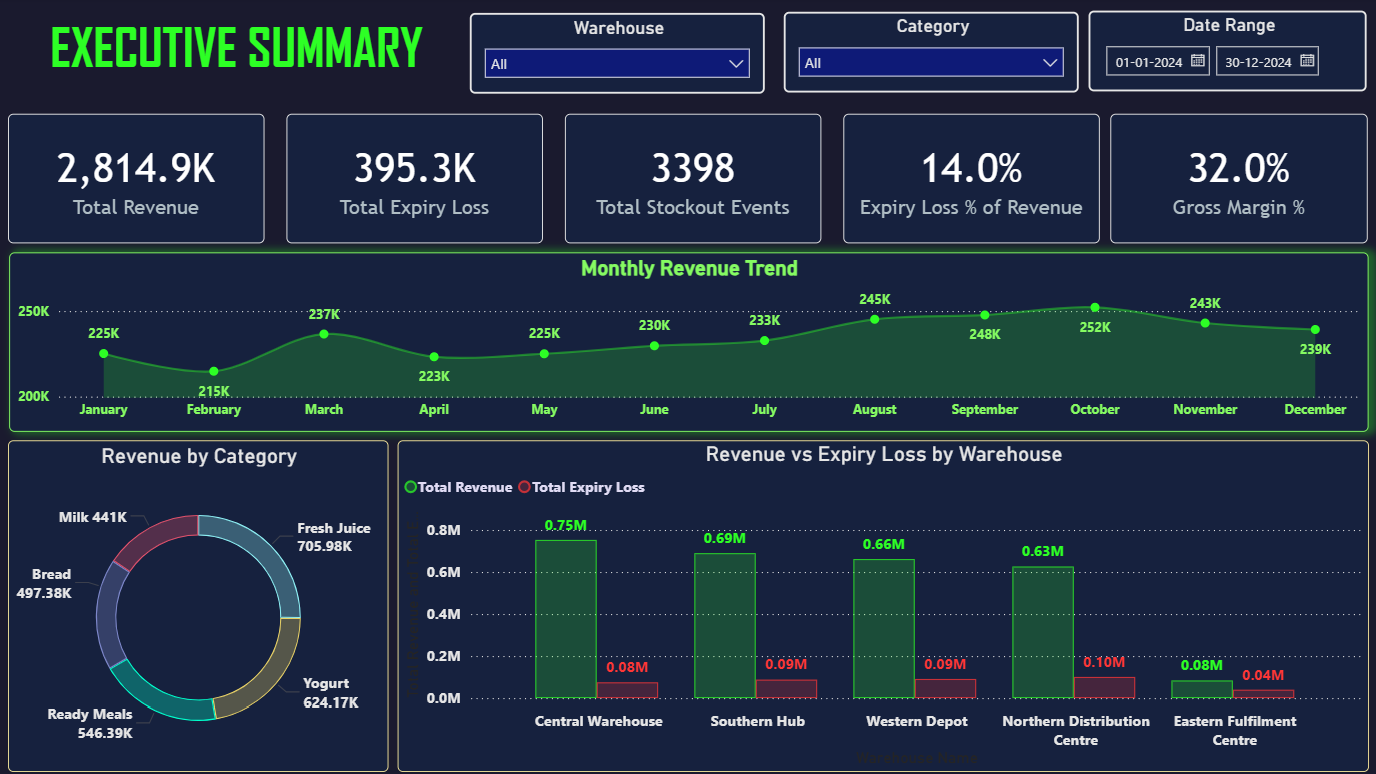

What the dashboard file says about the page in this screenshot:
{"tool":"powerbi","page":{"name":"Executive Summary","canvas":[1280,720],"ordinal":0},"visuals":[{"type":"card","fields":{"Values":["_Measures.Total Revenue"]},"box":[7.5,107.5,238.1,120],"z":0,"group":"g1"},{"type":"lineChart","title":"Monthly Revenue Trend","fields":{"Category":["fact_sales.sale_date.Variation.Date Hierarchy.Month"],"Y":["_Measures.Total Revenue"]},"box":[8.5,236.3,1262.4,167.1],"z":1000},{"type":"card","fields":{"Values":["_Measures.Total Expiry Loss"]},"box":[266.1,107.5,238.1,120],"z":2000,"group":"g1"},{"type":"clusteredColumnChart","title":"Revenue vs Expiry Loss by Warehouse","fields":{"Category":["dim_warehouses.Warehouse Name"],"Y":["_Measures.Total Revenue","_Measures.Total Expiry Loss"]},"box":[369.2,410.9,902,307.6],"z":3000},{"type":"card","fields":{"Values":["_Measures.Total Stockout Events"]},"box":[524.8,107.5,238.1,120],"z":4000,"group":"g1"},{"type":"donutChart","title":"Revenue by Category","fields":{"Category":["dim_products.category"],"Y":["_Measures.Total Revenue"]},"box":[7.7,410.9,353.8,307.6],"z":5000},{"type":"card","fields":{"Values":["_Measures.Expiry Loss % of Revenue"]},"box":[783.4,107.5,238.1,120],"z":6000,"group":"g1"},{"type":"textbox","box":[24.5,11.7,390.6,76.6],"z":7000},{"type":"slicer","title":"Warehouse","fields":{"Values":["dim_warehouses.Warehouse Name"]},"box":[436.2,14.2,274,74.8],"z":8000},{"type":"slicer","title":"Category","fields":{"Values":["dim_products.category"]},"box":[728,13.1,274,74.8],"z":9000},{"type":"slicer","title":"Date Range","fields":{"Values":["fact_sales.sale_date"]},"box":[1011.6,12.1,258.5,74.8],"z":10000},{"type":"card","fields":{"Values":["_Measures.Gross Margin %"]},"box":[1031,107.5,239,120.3],"z":11000,"group":"g1"},{"type":"group","id":"g1","title":"Group 1","box":[7.5,107.5,1262.4,120.3],"z":11001}]}

Visuals, with their boxes in screenshot pixels (x1, y1, x2, y2), scaled from the page's 1280x720 canvas onto the 1376x774 screenshot:
card - _Measures.Total Revenue: detection(8, 116, 264, 245)
"Monthly Revenue Trend" lineChart: detection(9, 254, 1366, 434)
card - _Measures.Total Expiry Loss: detection(286, 116, 542, 245)
"Revenue vs Expiry Loss by Warehouse" clusteredColumnChart: detection(397, 442, 1367, 772)
card - _Measures.Total Stockout Events: detection(564, 116, 820, 245)
"Revenue by Category" donutChart: detection(8, 442, 389, 772)
card - _Measures.Expiry Loss % of Revenue: detection(842, 116, 1098, 245)
textbox: detection(26, 13, 446, 95)
"Warehouse" slicer: detection(469, 15, 763, 96)
"Category" slicer: detection(783, 14, 1077, 94)
"Date Range" slicer: detection(1087, 13, 1365, 93)
card - _Measures.Gross Margin %: detection(1108, 116, 1365, 245)
"Group 1" group: detection(8, 116, 1365, 245)
